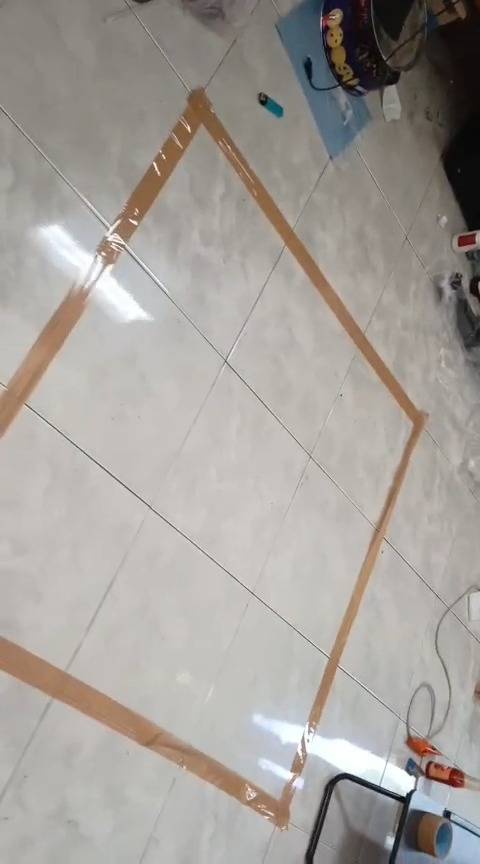floor marking: (0, 89, 426, 827)
